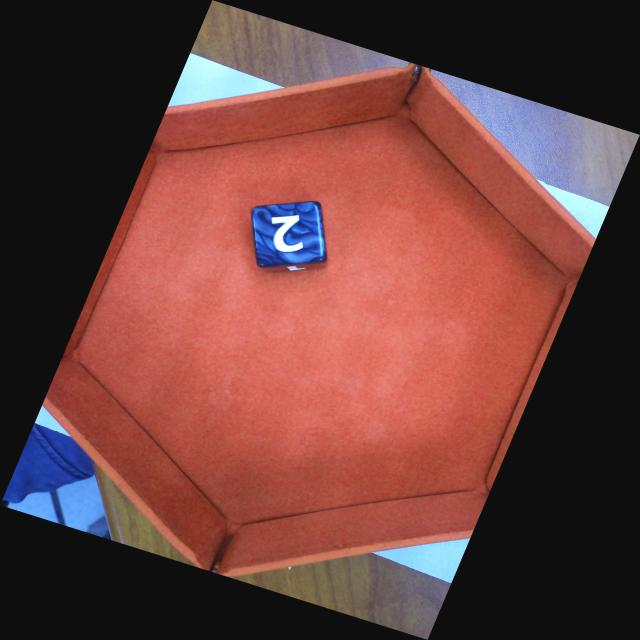dice: (253, 200, 324, 262)
